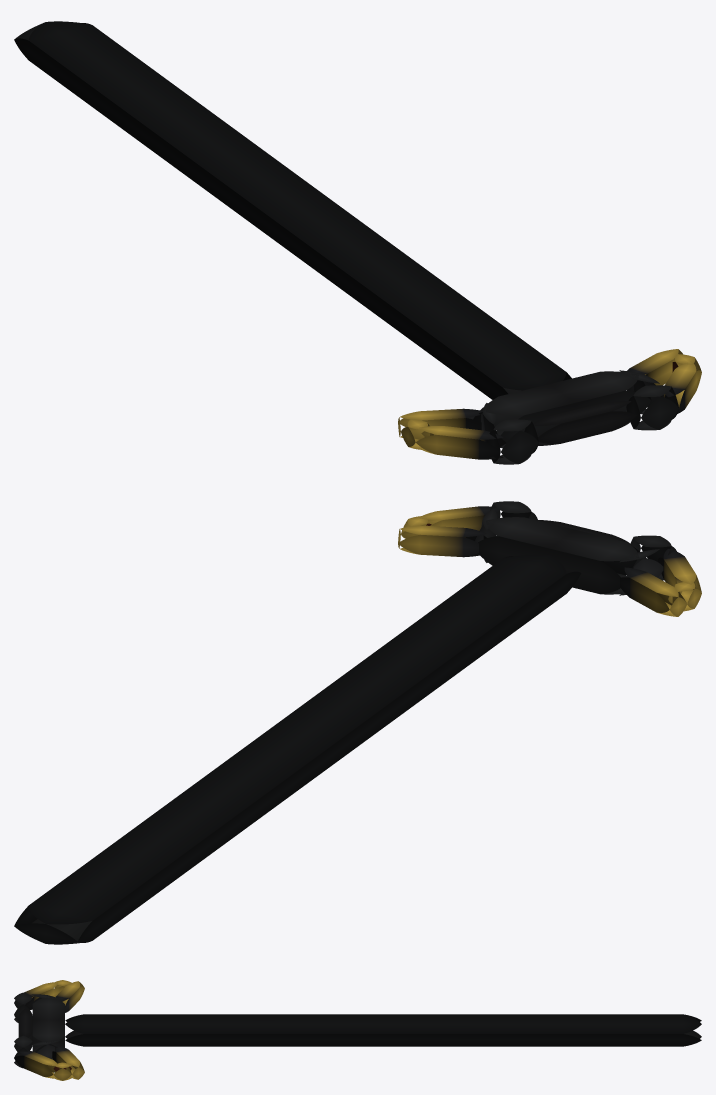
File: udp_9_handle.fbx
3 views of the same model, one above another, from view 1: azimuth 30°, elevation 25°; view 2: azimuth 150°, elevation 25°; view 3: azimuth 270°, elevation 25° (orthographic). The views are drawn at different scales.
Visible parts, largest first — view 1: cube_12, cube_4, cube_11, cube_7, cube, cube_10, cube_6, cube_1, cube_3; view 2: cube_12, cube_4, cube_3, cube_6, cube_1, cube_7, cube_10; view 3: cube_12, cube_4, cube_1, cube_3, cube_6, cube_7, cube_11, cube_10, cube, cube_2, cube_5.
Boxes of the visible parts, bbox=[...] form: cube_12: bbox=[14, 21, 571, 399]; cube_4: bbox=[473, 371, 651, 448]; cube_11: bbox=[533, 401, 636, 445]; cube_7: bbox=[416, 426, 505, 459]; cube: bbox=[626, 385, 678, 430]; cube_10: bbox=[486, 419, 538, 464]; cube_6: bbox=[398, 408, 482, 440]; cube_1: bbox=[660, 361, 701, 413]; cube_3: bbox=[627, 349, 683, 391]; cube_12: bbox=[14, 555, 581, 944]; cube_4: bbox=[475, 517, 646, 594]; cube_3: bbox=[398, 525, 486, 557]; cube_6: bbox=[620, 567, 687, 616]; cube_1: bbox=[419, 506, 500, 530]; cube_7: bbox=[658, 548, 701, 603]; cube_10: bbox=[630, 535, 676, 580]; cube_12: bbox=[65, 1014, 701, 1046]; cube_4: bbox=[32, 996, 64, 1052]; cube_1: bbox=[14, 1049, 61, 1078]; cube_3: bbox=[52, 1045, 84, 1079]; cube_6: bbox=[56, 981, 84, 1012]; cube_7: bbox=[24, 982, 59, 1009]; cube_11: bbox=[18, 1008, 32, 1044]; cube_10: bbox=[14, 992, 32, 1022]; cube: bbox=[14, 1035, 32, 1068]; cube_2: bbox=[53, 1062, 71, 1080]; cube_5: bbox=[31, 1040, 60, 1059].
Bounding box in the file's own units: 17.57 × 1.95 × 57.81.
Materials: 1 (1 with a texture image).
